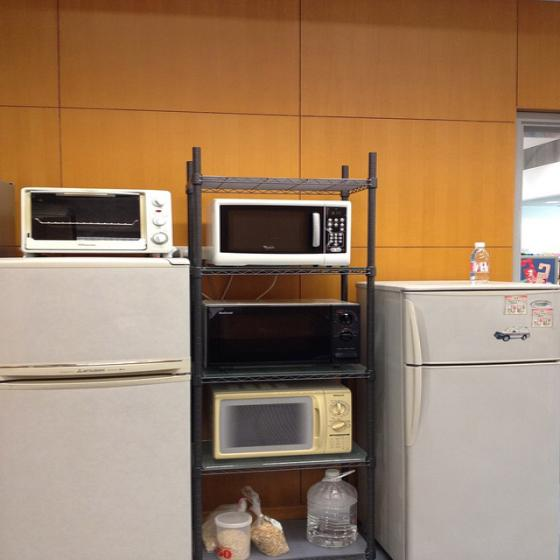bottle: (305, 468, 356, 550), (471, 242, 490, 284)
microwave: (202, 297, 360, 370), (211, 385, 357, 463), (23, 186, 174, 260), (203, 198, 351, 268)
oven: (18, 183, 174, 257)
refrigerator: (5, 258, 194, 549), (369, 276, 560, 554)
